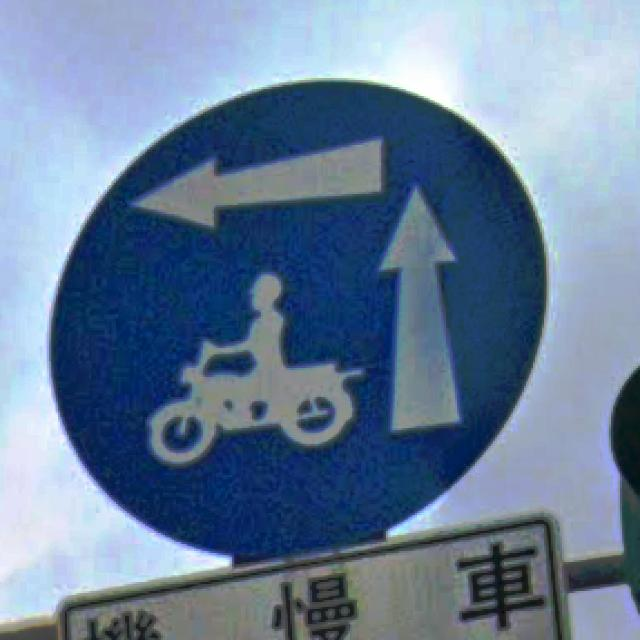twostageturn: (49, 80, 546, 557)
